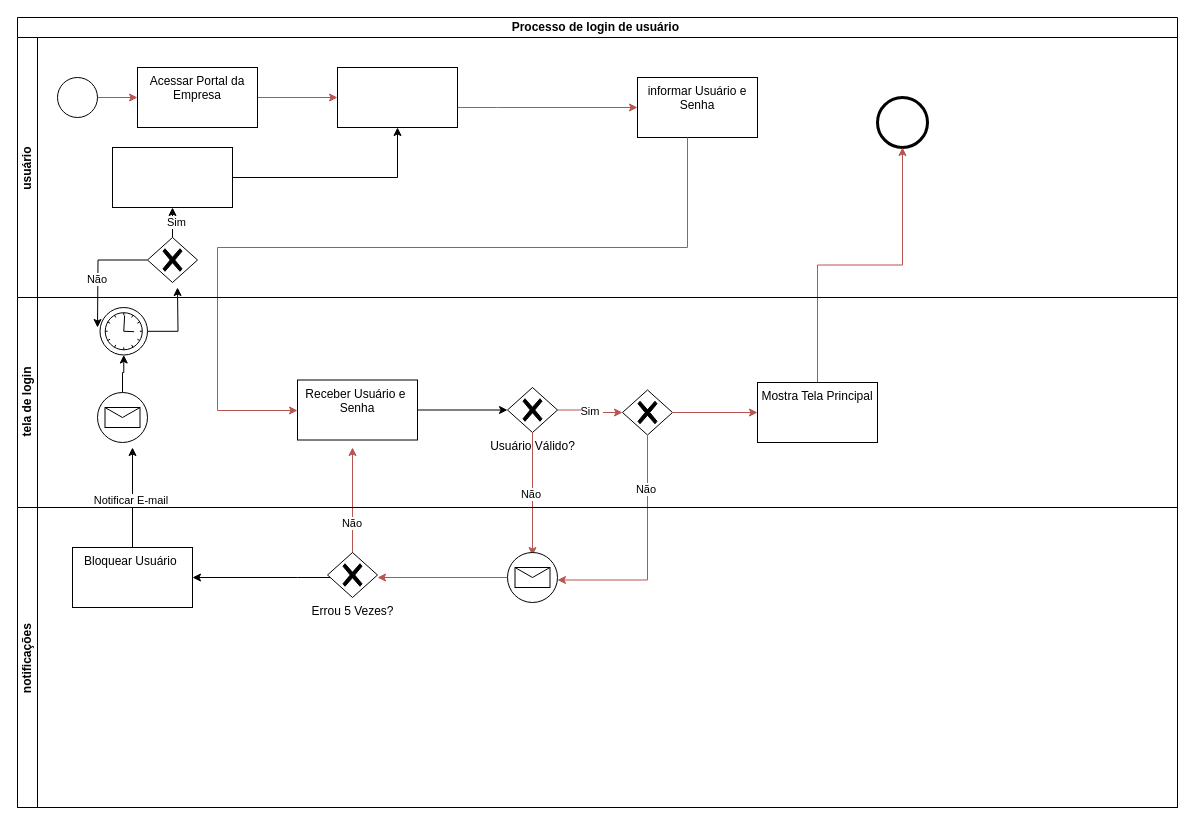
Some shapes in this 1195 by 825 pixel diagram are drawn without their labels. Here are the shapes that lost their labels. From the top down, the centre of each, then its label:
pixel 397 97: Acessar o link de login
pixel 172 177: Desbloquear Usuário
pixel 123 330: 60 minutos
pixel 647 412: Senha Válida
pixel 532 577: Usuário e/ou Senha Inválida
